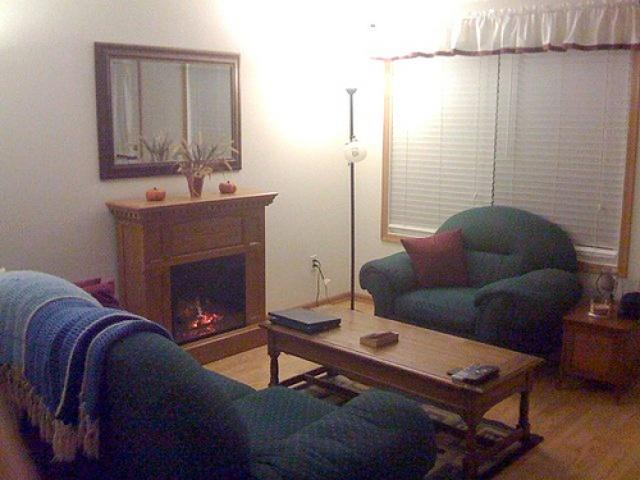Meja: (257, 301, 544, 434)
